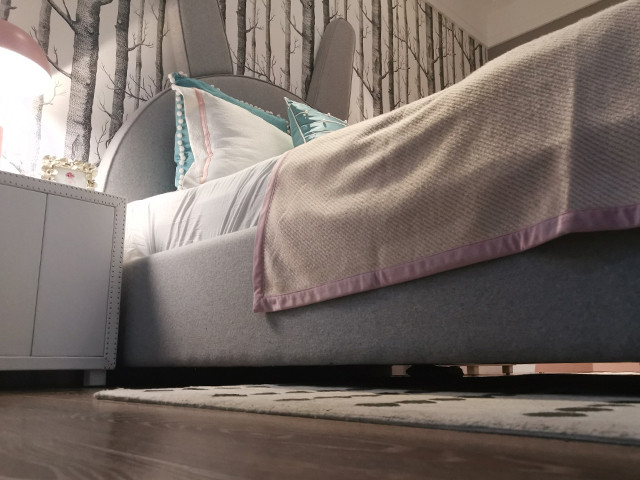bed: (92, 1, 640, 386)
cabinet: (1, 169, 129, 390)
carpet: (90, 369, 640, 449)
